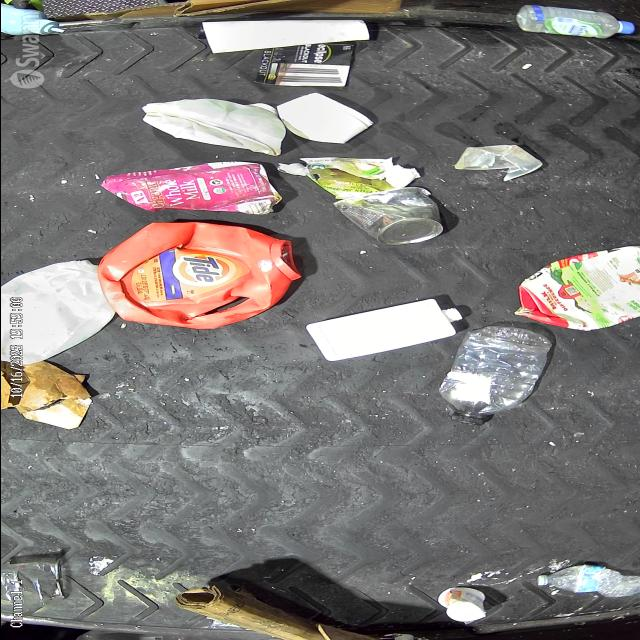can: (332, 183, 452, 244)
milk_jug: (0, 253, 114, 364), (138, 96, 286, 156)
non_white_jug: (86, 222, 303, 332)
plastic_bottle: (435, 316, 552, 424), (512, 0, 640, 42), (533, 562, 640, 602)
